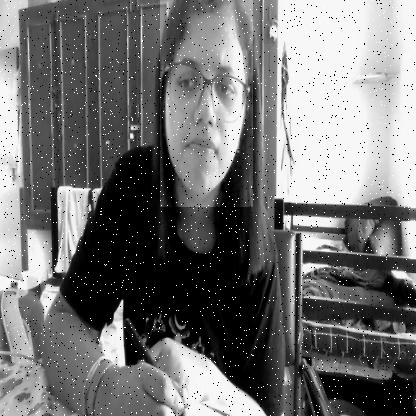Normal: (160, 0, 253, 207)
